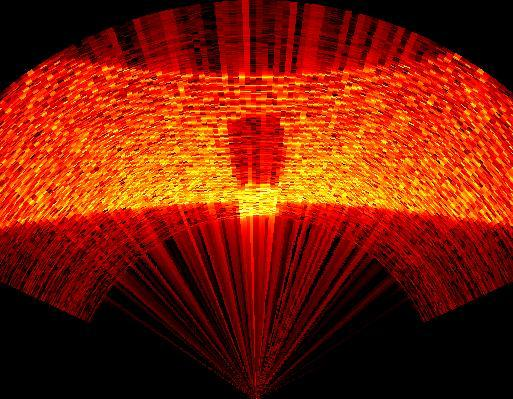box_crate: (223, 101, 292, 197)
